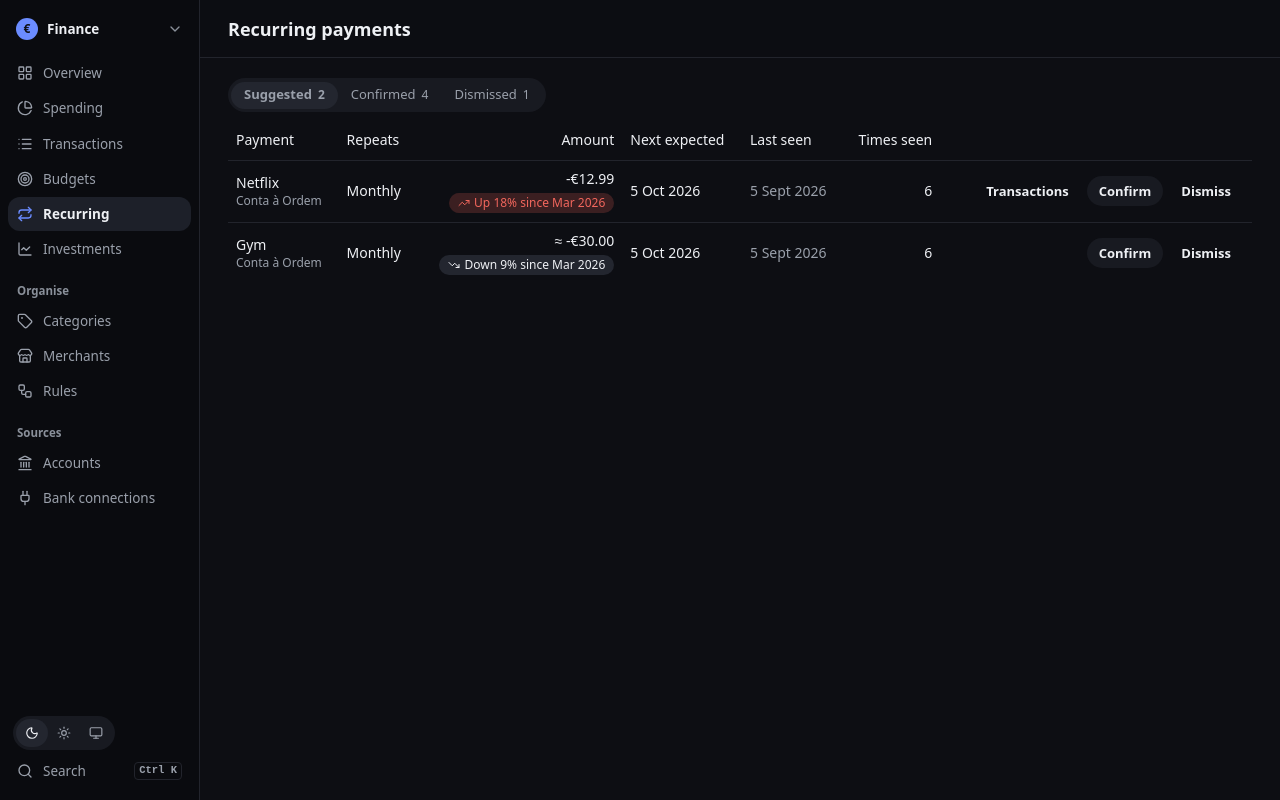
shows price changes, and marks amounts that vary
The width and height of the screenshot is (1280, 800).
Expected: the text "Up 18% since Mar 2026" is shown, [449,192,614,212]
Expected: the text "-€12.99" is shown, [566,168,614,188]
Press the mouse on the tab "Confirmed 4" at (390, 95), box [338,82,442,108]
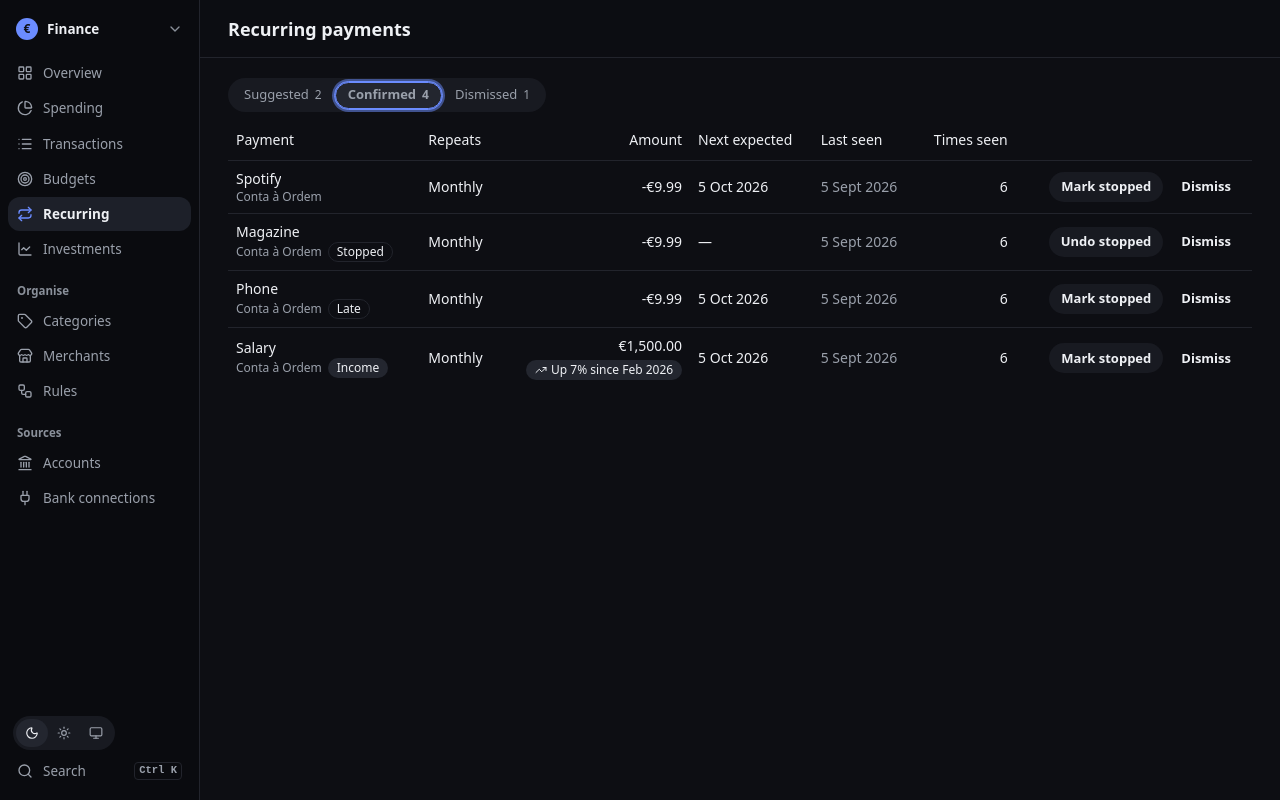
Result: the text "Income" is shown at [328,358,388,378]
